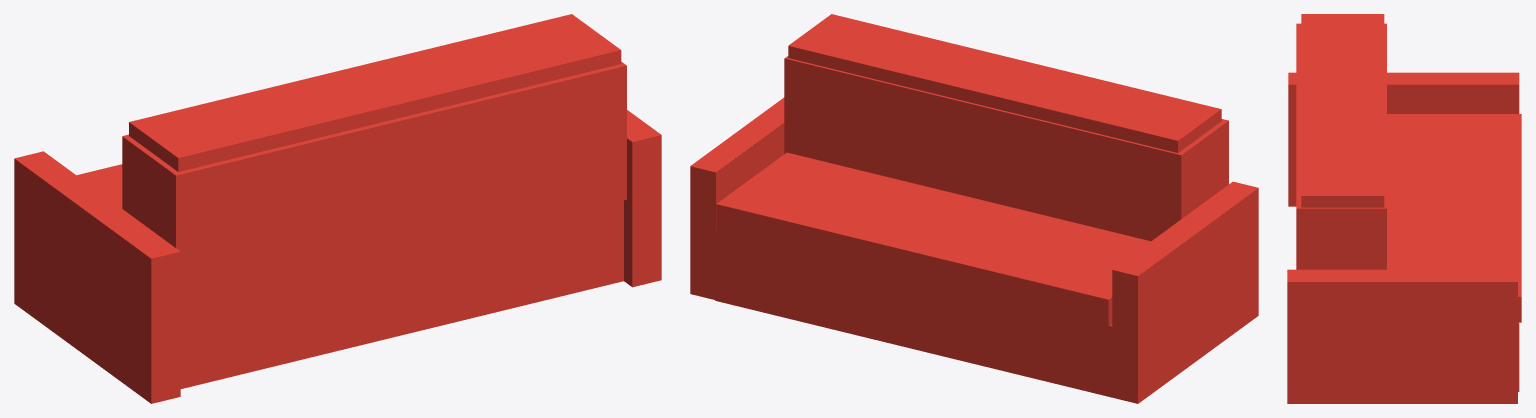
3 renders of one model, left to right at view 1: azimuth 30°, elevation 25°; view 2: azimuth 150°, elevation 25°; view 3: azimuth 270°, elevation 25°, orthographic. The views are drawn at different scales.
Visible parts, largest first — view 1: mesh_128059086, mesh_1277735316, mesh_246930434, mesh_791256093, mesh_8165460, mesh_674019737; view 2: mesh_128059086, mesh_674019737, mesh_1277735316, mesh_246930434, mesh_791256093, mesh_8165460; view 3: mesh_8165460, mesh_674019737, mesh_246930434, mesh_128059086, mesh_791256093.
Boxes of the visible parts, box(x1,y1,x2,y2) form: mesh_128059086: box(122, 62, 626, 308); mesh_1277735316: box(180, 200, 623, 388); mesh_246930434: box(129, 14, 621, 171); mesh_791256093: box(14, 151, 180, 403); mesh_8165460: box(624, 110, 661, 287); mesh_674019737: box(77, 164, 122, 208); mesh_128059086: box(784, 56, 1228, 241); mesh_674019737: box(716, 152, 1150, 326); mesh_1277735316: box(715, 229, 1112, 397); mesh_246930434: box(788, 14, 1221, 152); mesh_791256093: box(1112, 181, 1258, 403); mesh_8165460: box(690, 97, 784, 299); mesh_8165460: box(1287, 269, 1517, 403); mesh_674019737: box(1387, 114, 1521, 322); mesh_246930434: box(1301, 14, 1384, 207); mesh_128059086: box(1296, 23, 1386, 269); mesh_791256093: box(1288, 72, 1519, 206).
Bounding box in the file's own units: 191 × 83 × 90.5.
